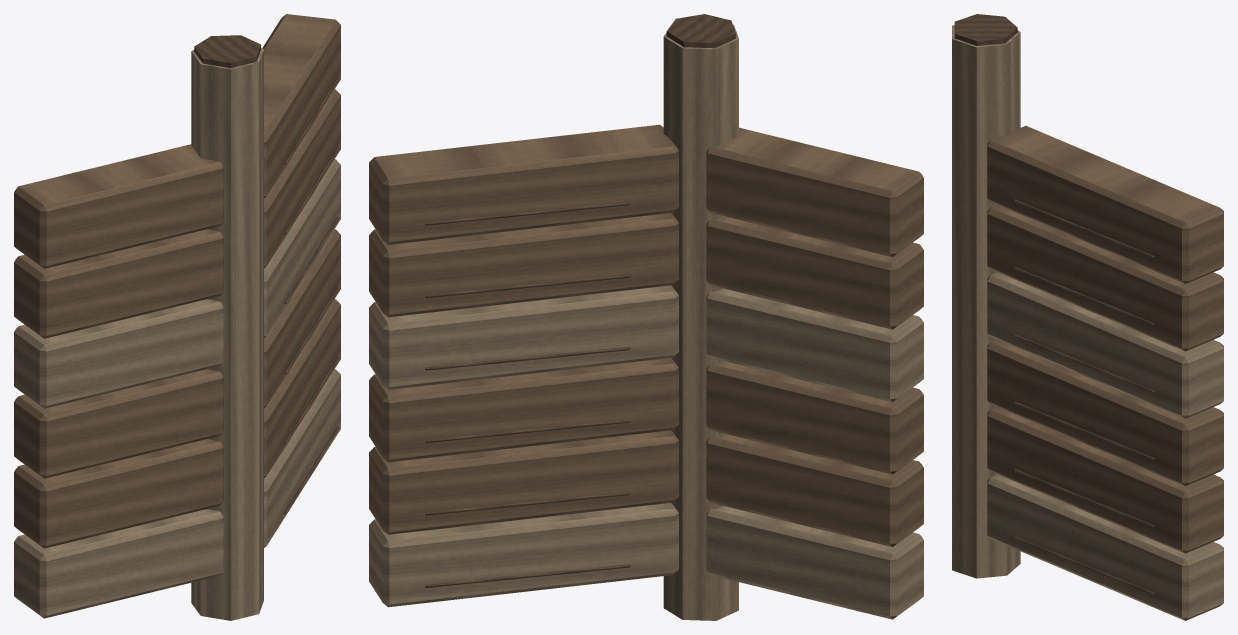
The model's file is wall_mask_72.glb.
The picture shows the model from 3 angles, left to right: view 1: azimuth 30°, elevation 25°; view 2: azimuth 150°, elevation 25°; view 3: azimuth 270°, elevation 25°; orthographic projection. The views are drawn at different scales.
Parts seen in each view (by area): view 1: wall_mask_72__Weathered_timber, wall_mask_72__Timber_worn_edges, wall_mask_72__Dark_endgrain; view 2: wall_mask_72__Weathered_timber, wall_mask_72__Timber_worn_edges, wall_mask_72__Dark_endgrain; view 3: wall_mask_72__Weathered_timber, wall_mask_72__Timber_worn_edges, wall_mask_72__Dark_endgrain.
Part boxes in pixels (x1,y1,x2,y2): wall_mask_72__Weathered_timber: (14,14,340,548); wall_mask_72__Timber_worn_edges: (14,48,340,620); wall_mask_72__Dark_endgrain: (194,35,339,514); wall_mask_72__Weathered_timber: (369,124,923,546); wall_mask_72__Timber_worn_edges: (369,24,923,620); wall_mask_72__Dark_endgrain: (425,14,735,587); wall_mask_72__Weathered_timber: (987,125,1223,553); wall_mask_72__Timber_worn_edges: (952,25,1223,620); wall_mask_72__Dark_endgrain: (954,14,1154,595).
Bounding box in the file's own units: 1.09 × 1.39 × 0.64.
Materials: 3 (3 with a texture image).
